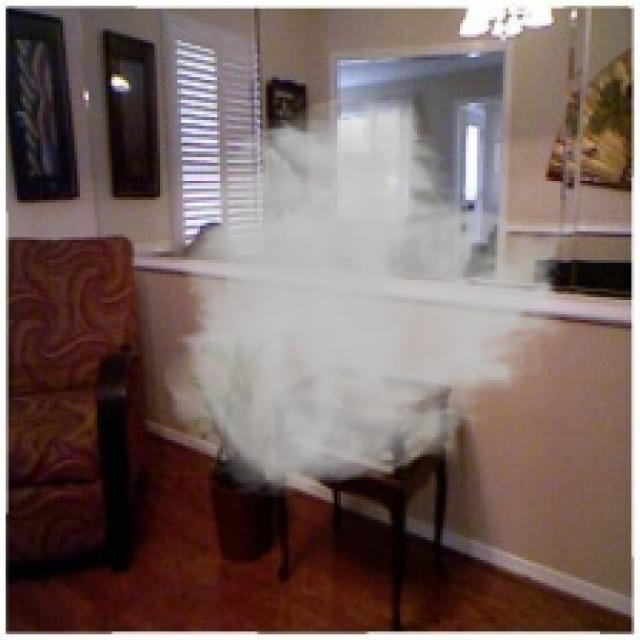Smoke: (160, 94, 583, 500)
